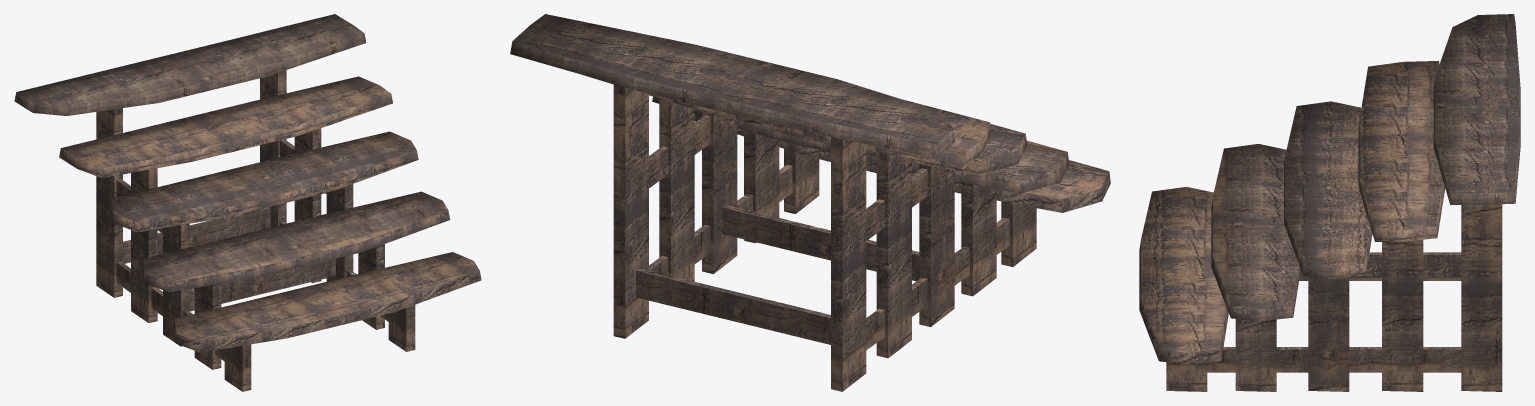
Rendered from cabinSteps_01_LOD1.FBX.
3 renders of one model, left to right at view 1: azimuth 30°, elevation 25°; view 2: azimuth 150°, elevation 25°; view 3: azimuth 270°, elevation 25°, orthographic. The views are drawn at different scales.
Parts seen in each view (by area): view 1: cabinSteps_01_LOD1; view 2: cabinSteps_01_LOD1; view 3: cabinSteps_01_LOD1.
Boxes of the visible parts, left/top/right/bottom form: cabinSteps_01_LOD1: left=14, top=14, right=481, bottom=391; cabinSteps_01_LOD1: left=510, top=14, right=1110, bottom=391; cabinSteps_01_LOD1: left=1139, top=14, right=1520, bottom=391.
Size of the model in its own units: 8.49 by 5.23 by 7.54.
Materials: 1 (1 with a texture image).
